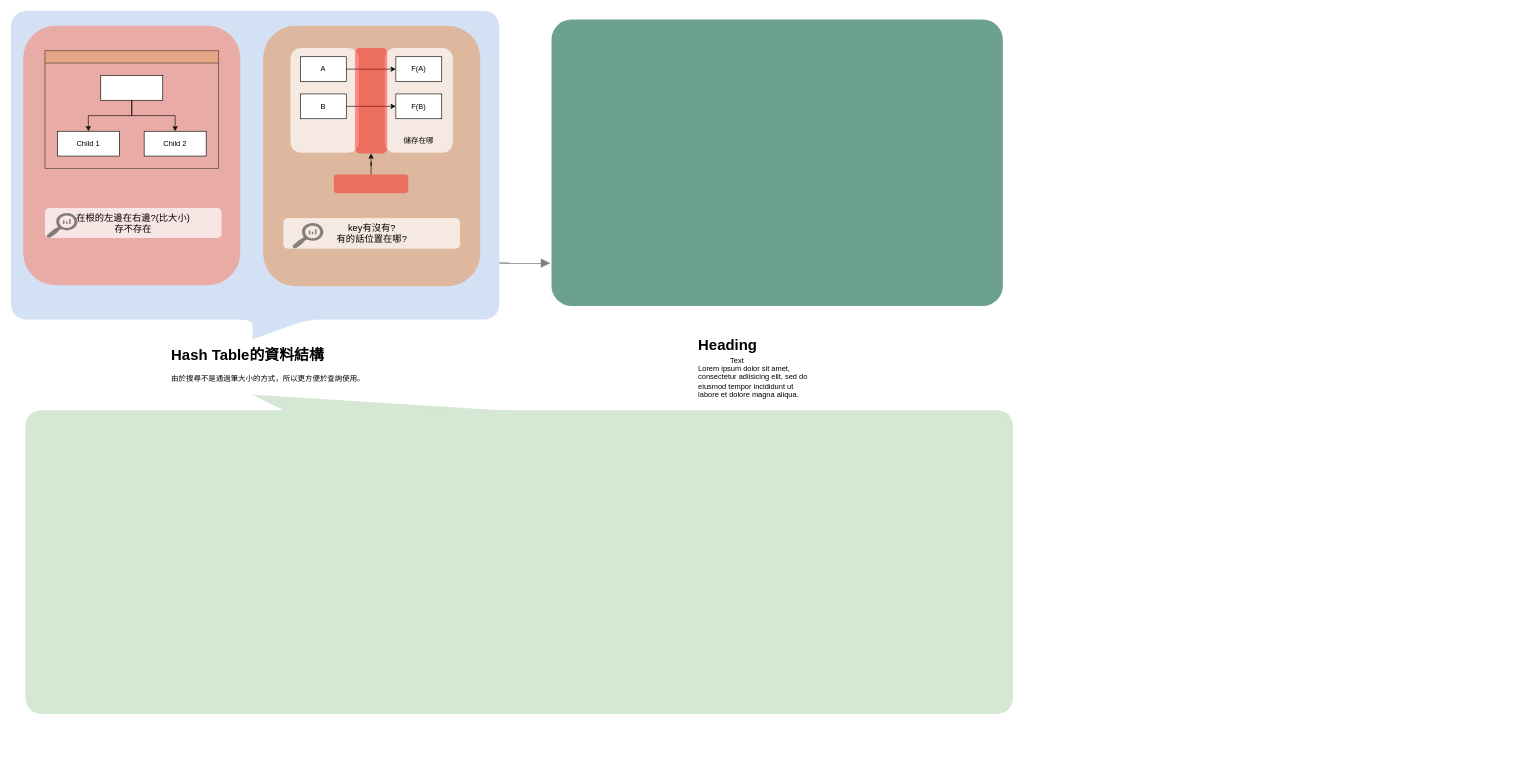
Image size: 1538x773. Some labels were removed from this diagram. The shapes that lost their labels are listed below. From the top down, each one's box as (x1, y1, x2, y2) in pixels, then its label:
(100, 75, 163, 100): Root
(290, 48, 358, 153): key
(44, 50, 219, 168): BST
(334, 174, 408, 193): 透過Hash function 分配存在哪裡
